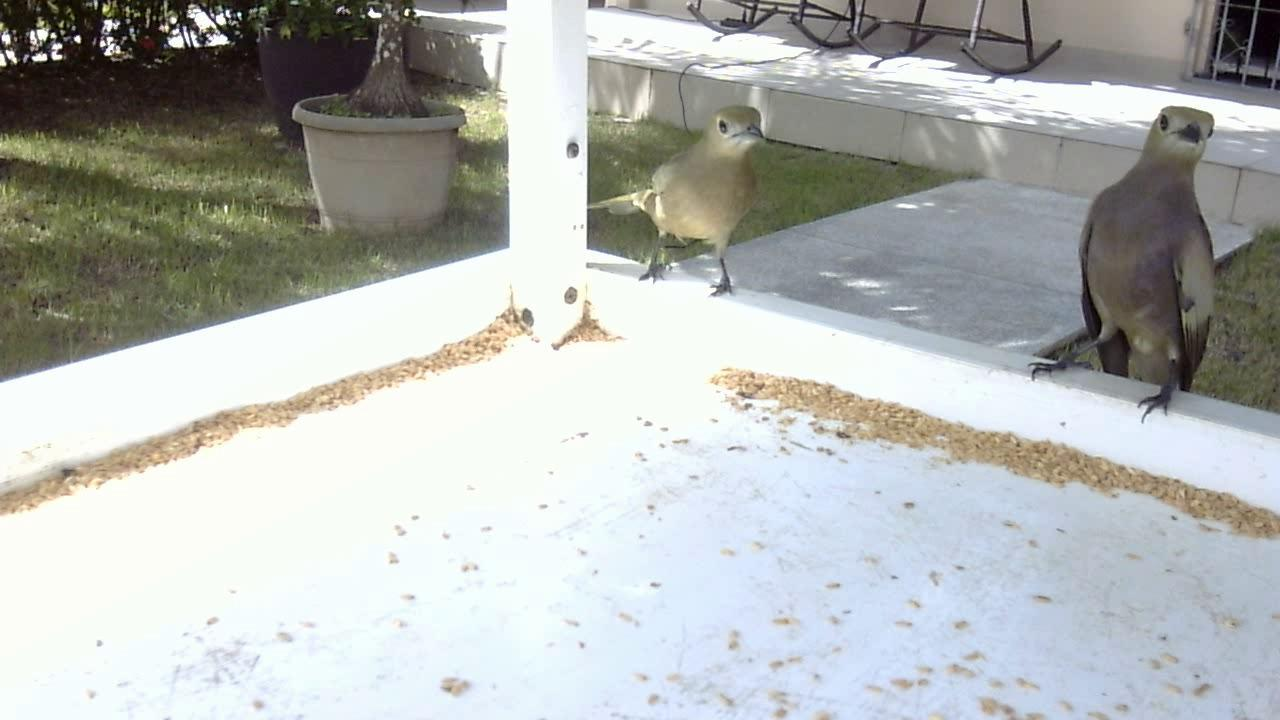sanhaco_do_coqueiro: (1026, 107, 1239, 426), (586, 103, 778, 297)
